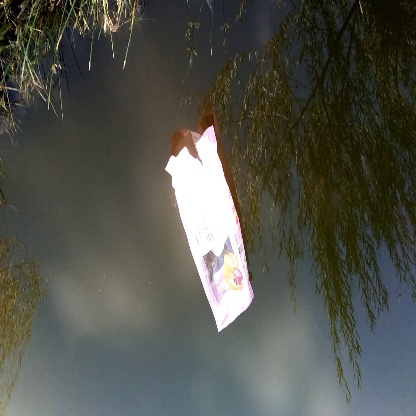plastic-bag: (164, 124, 259, 333)
